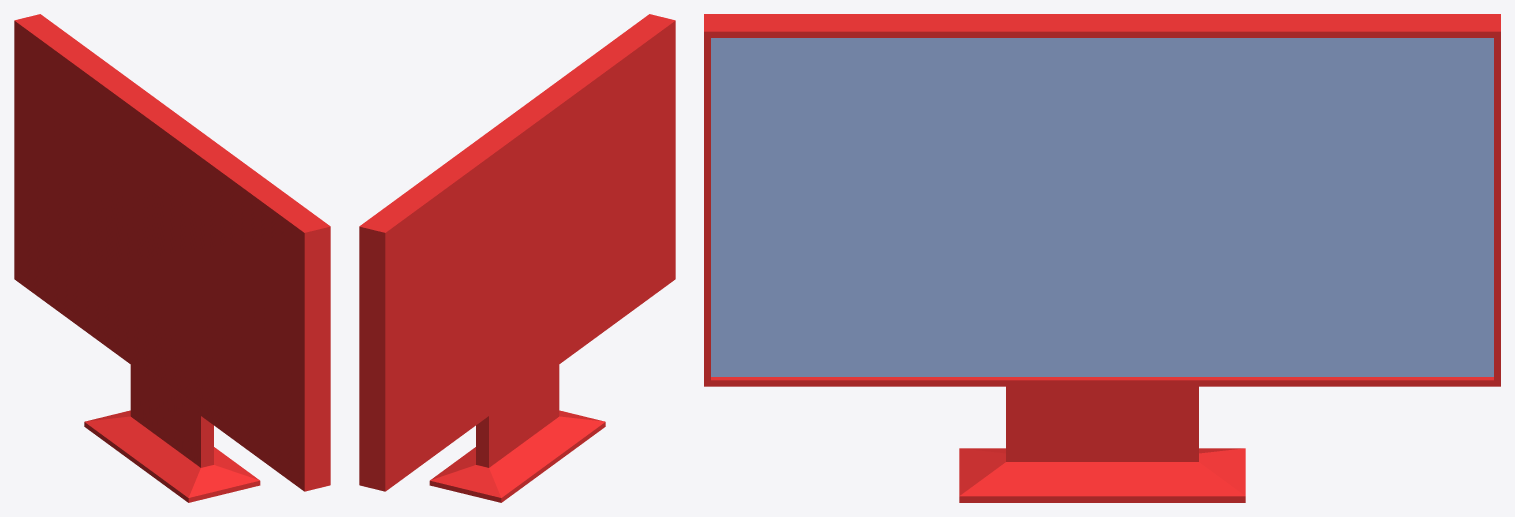
The picture shows the model from 3 angles, left to right: view 1: azimuth 30°, elevation 25°; view 2: azimuth 150°, elevation 25°; view 3: azimuth 270°, elevation 25°; orthographic projection. The views are drawn at different scales.
Parts seen in each view (by area): view 1: Box027; view 2: Box027; view 3: Box027.
Part boxes in pixels (x1,y1,x2,y2): Box027: (14,14,330,502); Box027: (359,14,675,502); Box027: (704,14,1500,502).
Size of the model in its own units: 21.52 by 95.35 by 151.
